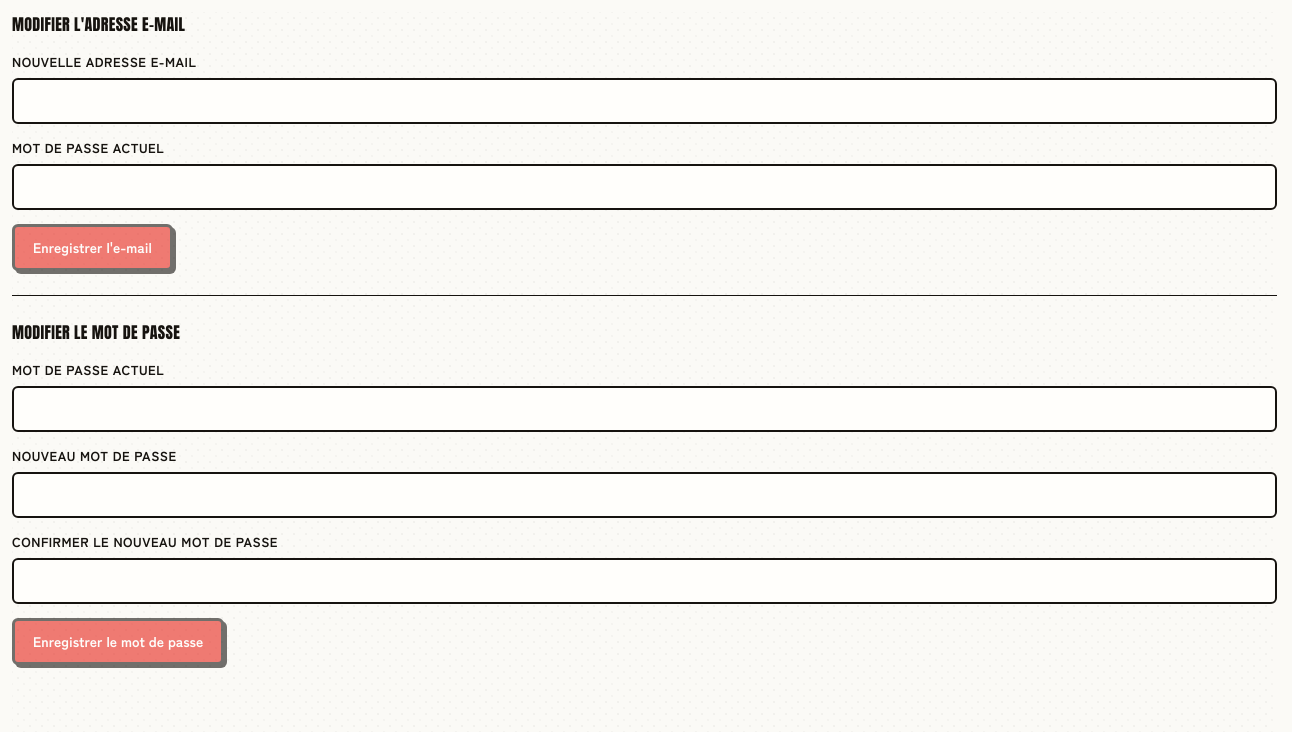
Test: SecurityIdentifiants › email form: shows "Mot de passe incorrect." on INVALID_PASSWORD
Expected: the heading "Modifier l'adresse e-mail" is shown, top-left (12, 12), bottom-right (185, 36)
Type "next@example.com" into the field labelled "Nouvelle adresse e-mail" at coordinates (644, 101), box top-left (12, 78), bottom-right (1277, 124)
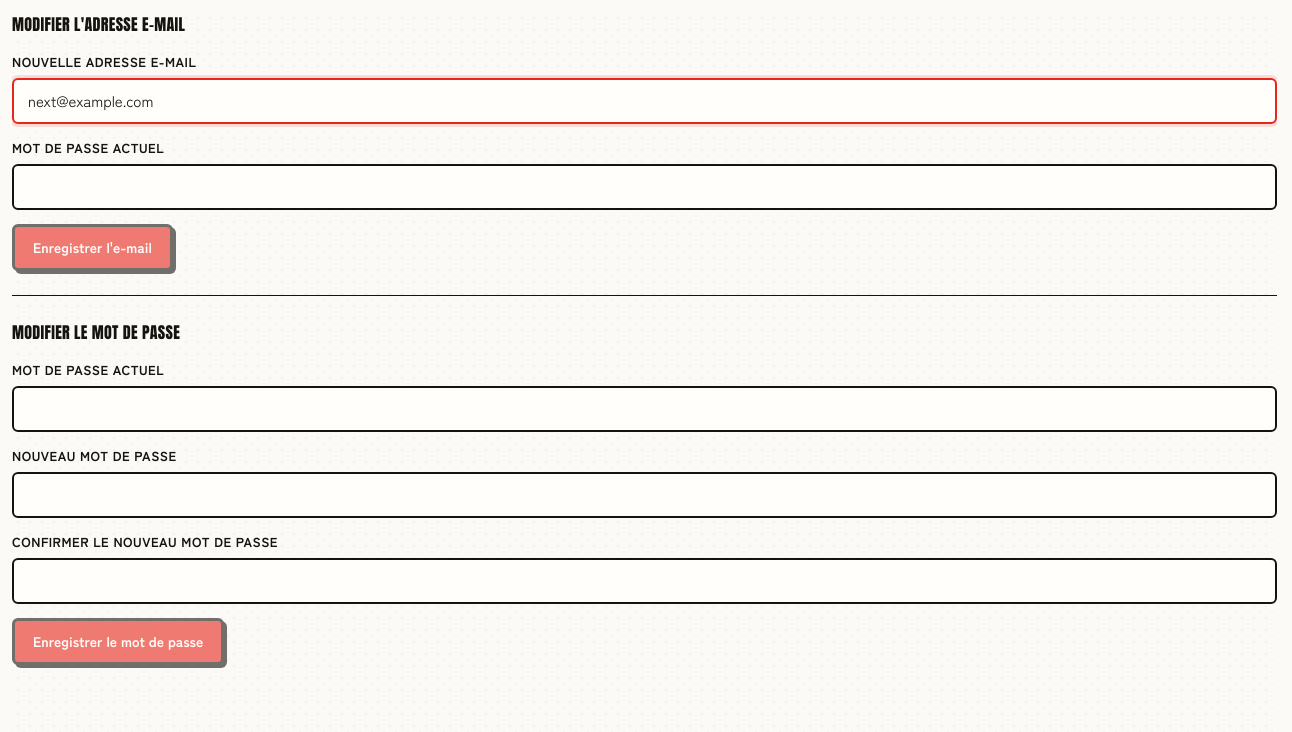
Type "wrong" into the password field labelled "Mot de passe actuel" below "Nouvelle adresse e-mail" at coordinates (644, 187), box top-left (12, 164), bottom-right (1277, 210)
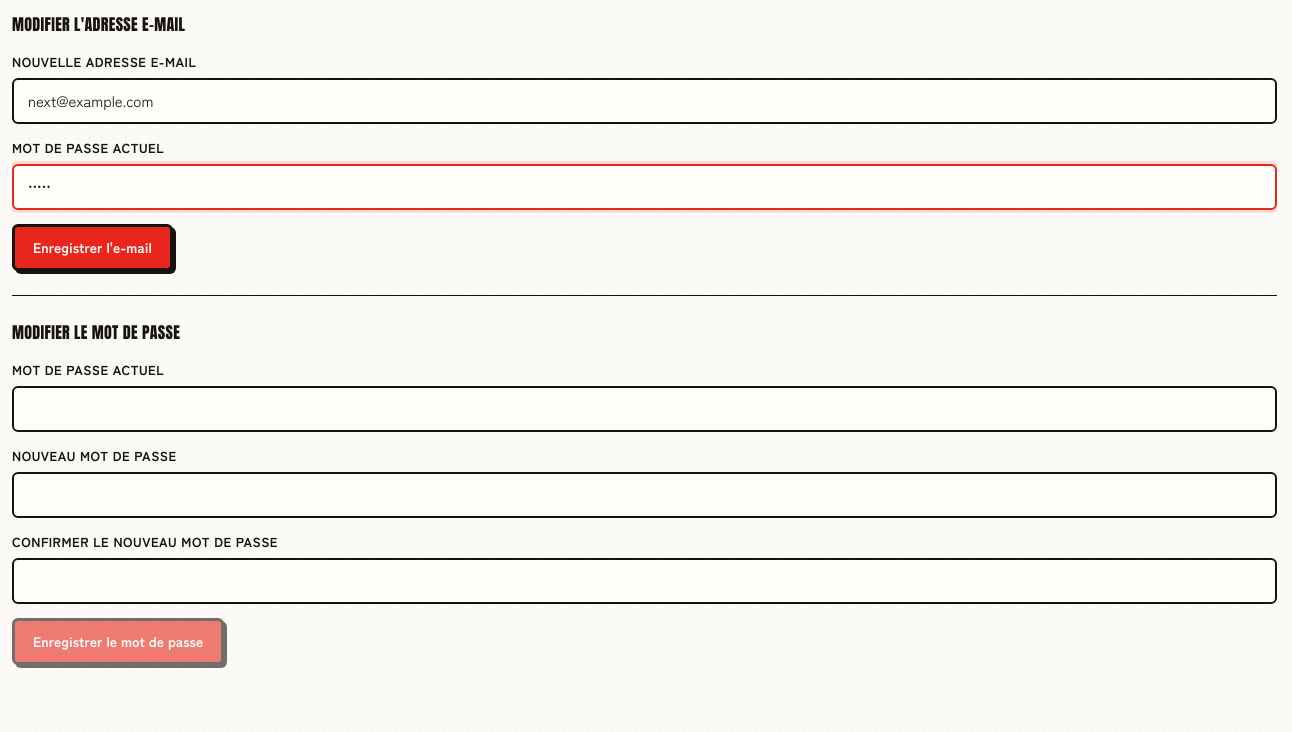
Click the button "Enregistrer l'e-mail" at coordinates (92, 248), box top-left (12, 224), bottom-right (173, 271)
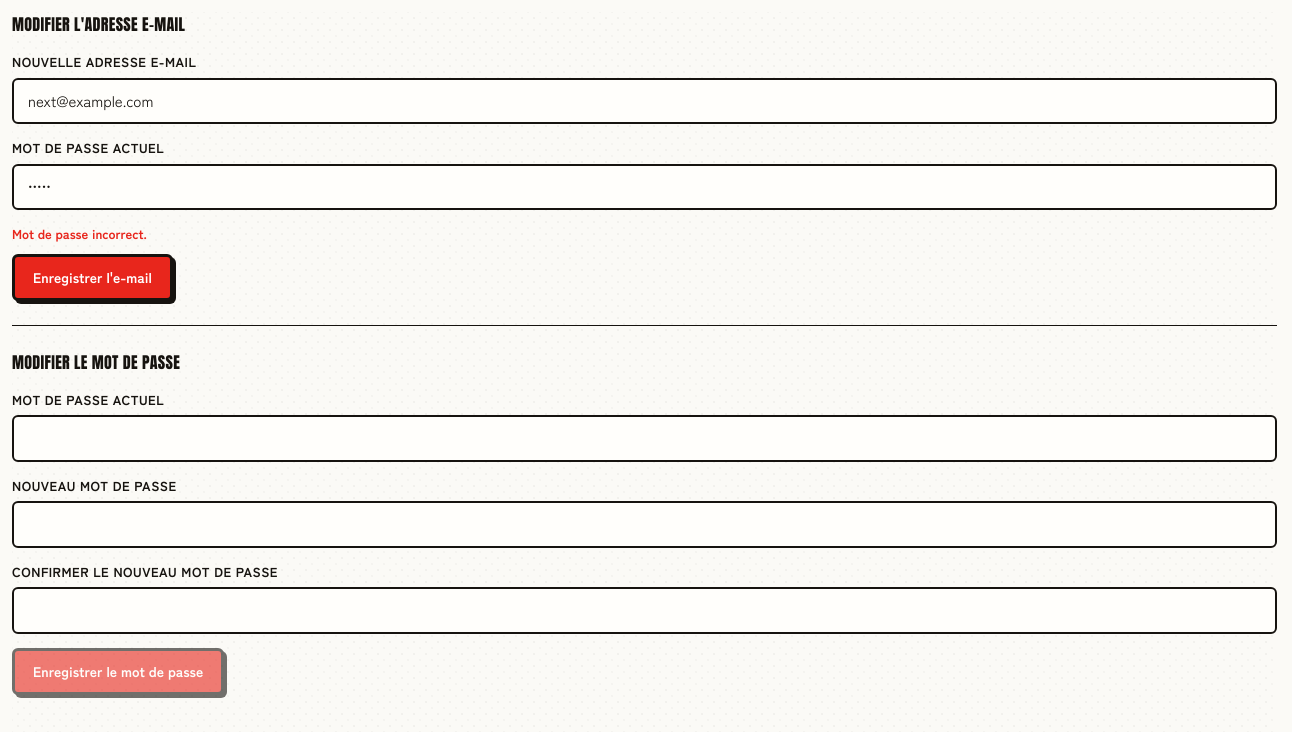
Expected: the text "Mot de passe incorrect." is shown, top-left (12, 224), bottom-right (147, 243)
